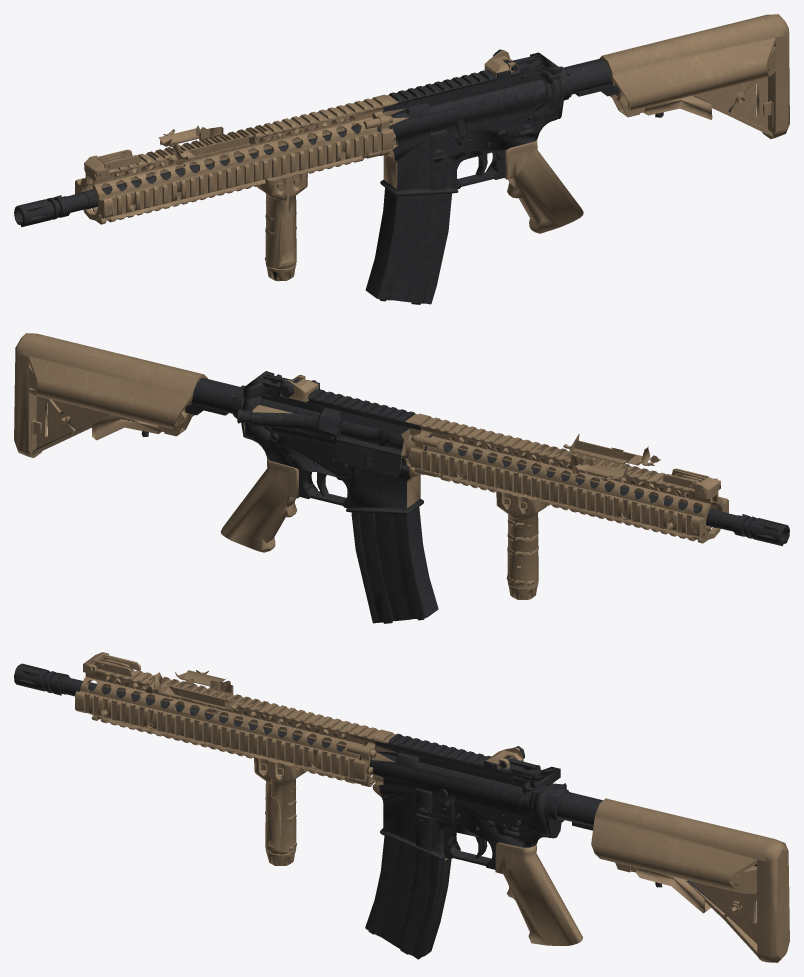
3 renders of one model, top to bottom at view 1: azimuth 30°, elevation 25°; view 2: azimuth 150°, elevation 25°; view 3: azimuth 330°, elevation 25°, orthographic.
Parts seen in each view (by area): view 1: m4a1; view 2: m4a1; view 3: m4a1.
Part boxes in pixels (x1,y1,x2,y2): m4a1: (14, 14, 789, 304); m4a1: (14, 333, 789, 623); m4a1: (14, 652, 789, 962).
Bounding box in the file's own units: 0.84 × 0.2381 × 0.0713.
2 materials, 2 textured.
